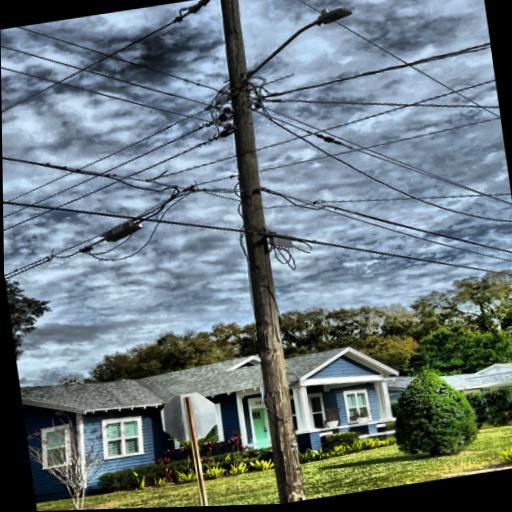pole: (198, 0, 326, 506)
street light: (232, 3, 360, 84)
